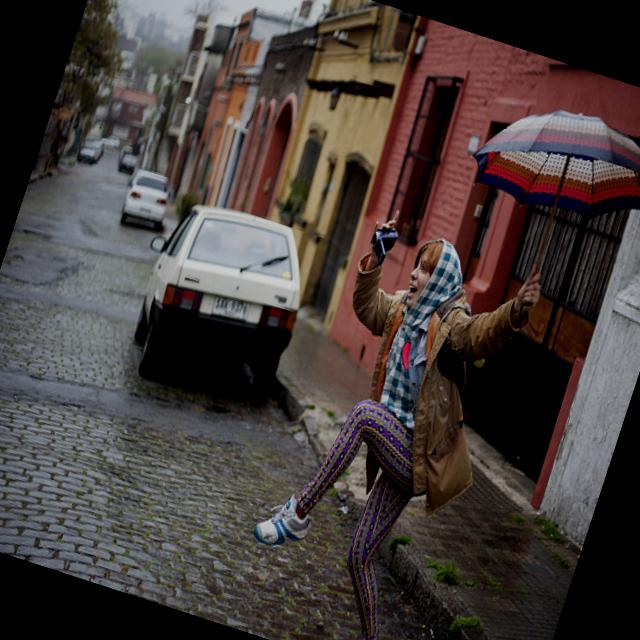Vehicle: (112, 186, 324, 414), (115, 163, 178, 234), (77, 138, 104, 168), (118, 150, 139, 175), (99, 131, 122, 151)
